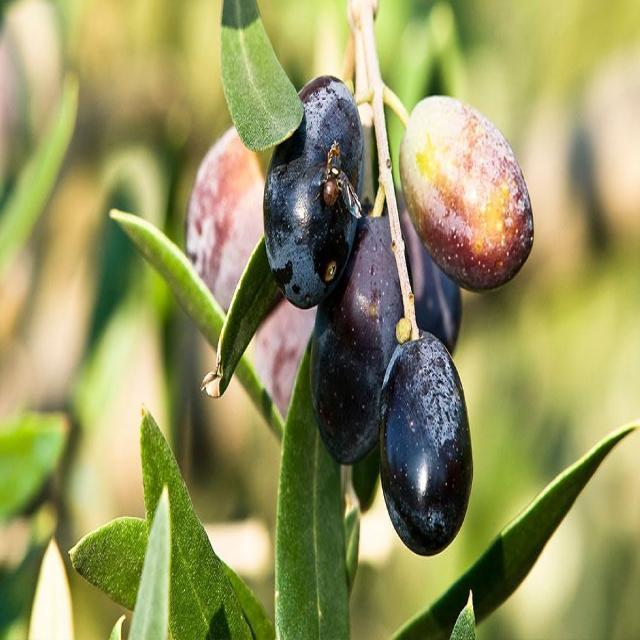Anthracnose: (263, 75, 363, 308)
